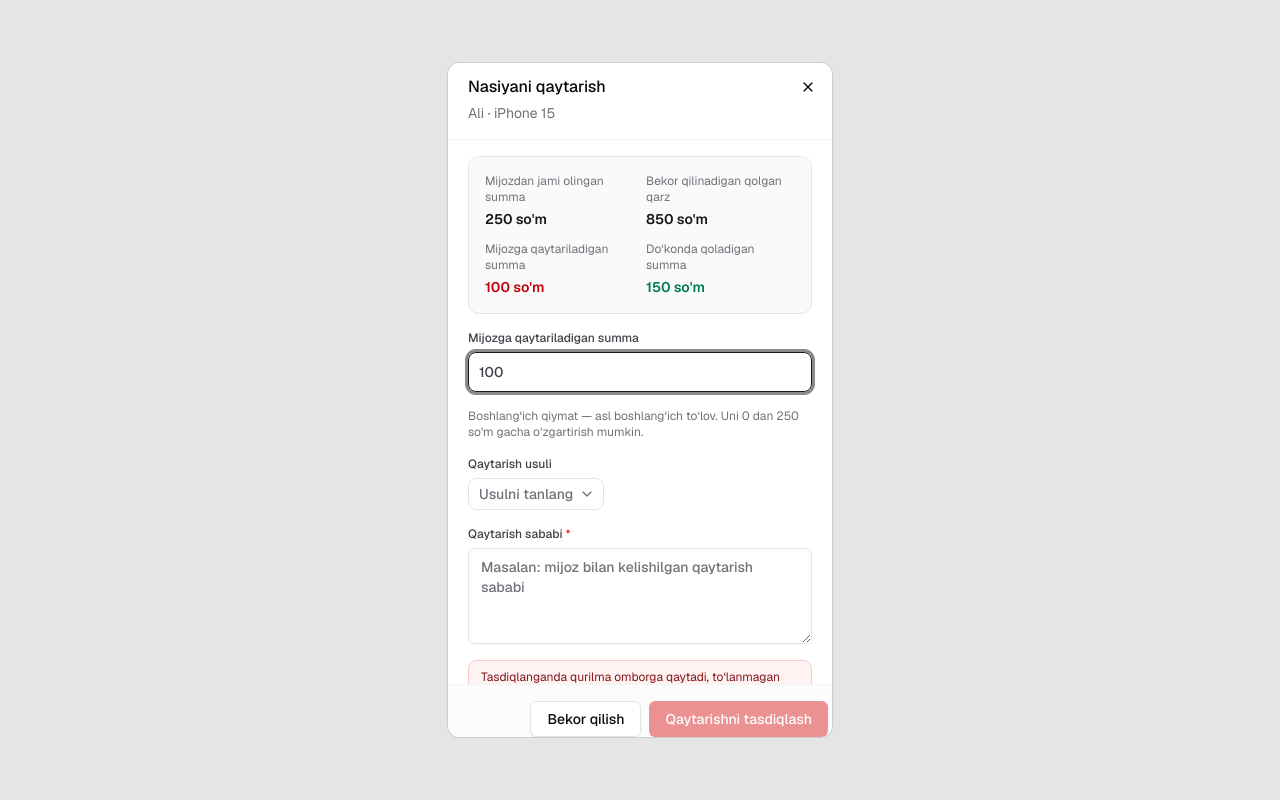
Test: Nasiya return modal › opens with the down payment, shows the real accounting summary, and keeps the refund editable
This screenshot has width=1280, height=800.
Check: the text "Mijozdan jami olingan summa" is shown, box [485,173,604,205]
Check: the text "Bekor qilinadigan qolgan qarz" is shown, box [646,173,795,205]
Replace the text in the field labelled "Mijozga qaytariladigan summa" with "75" at (640, 372), box [468,352,812,392]
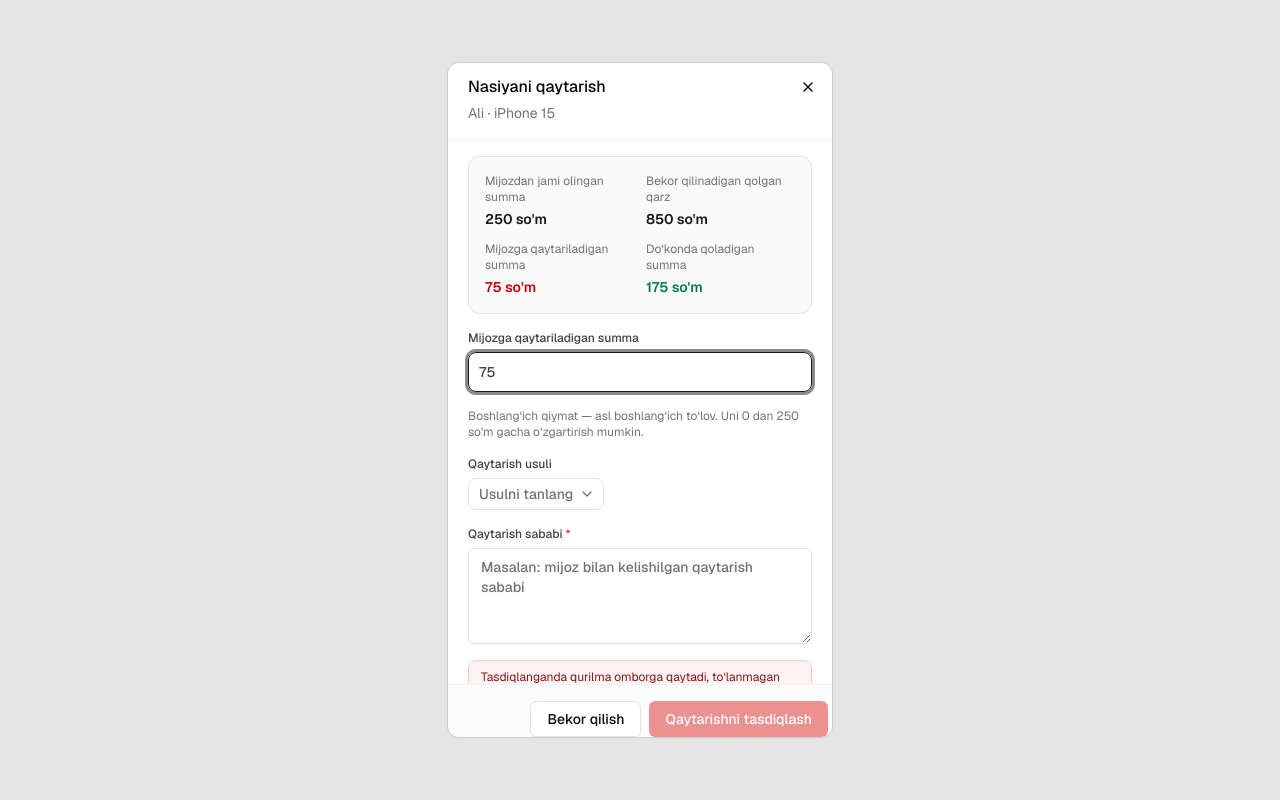
Check: the text "175 so'm" is shown, box [646,278,703,296]
